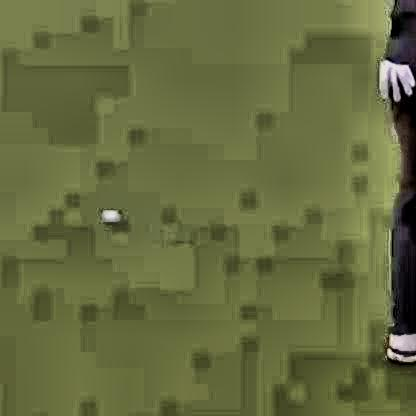golfball: (99, 206, 119, 223)
